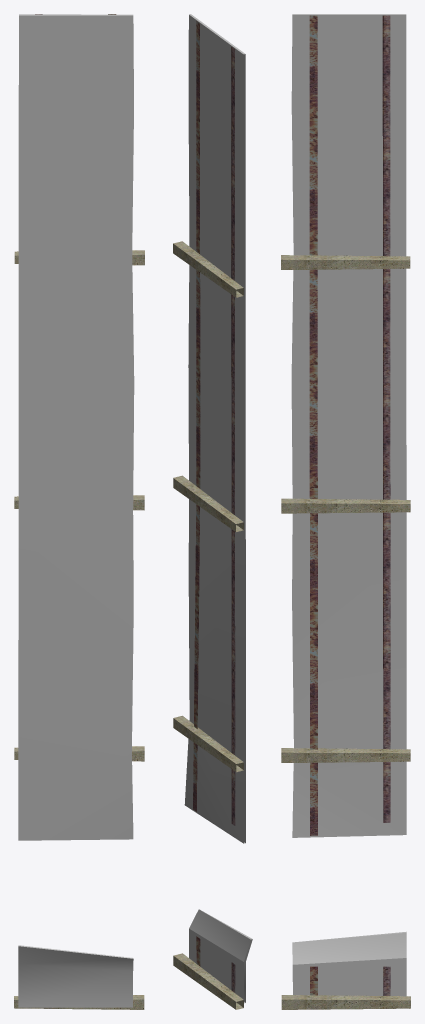
The model's file is zaun_blech_lang.fbx.
3 views of the same model, side by side, from view 1: azimuth 90°, elevation 25°; view 2: azimuth 210°, elevation 25°; view 3: azimuth 270°, elevation 25° (orthographic). The views are drawn at different scales.
Visible parts, largest first — view 1: Object011; view 2: Object011; view 3: Object011.
Boxes of the visible parts, x1,y1,x2,y2 form: Object011: (14,14,144,1009); Object011: (173,14,252,1009); Object011: (281,14,410,1009).
Size of the model in its own units: 0.7128 by 30.62 by 3.64.
